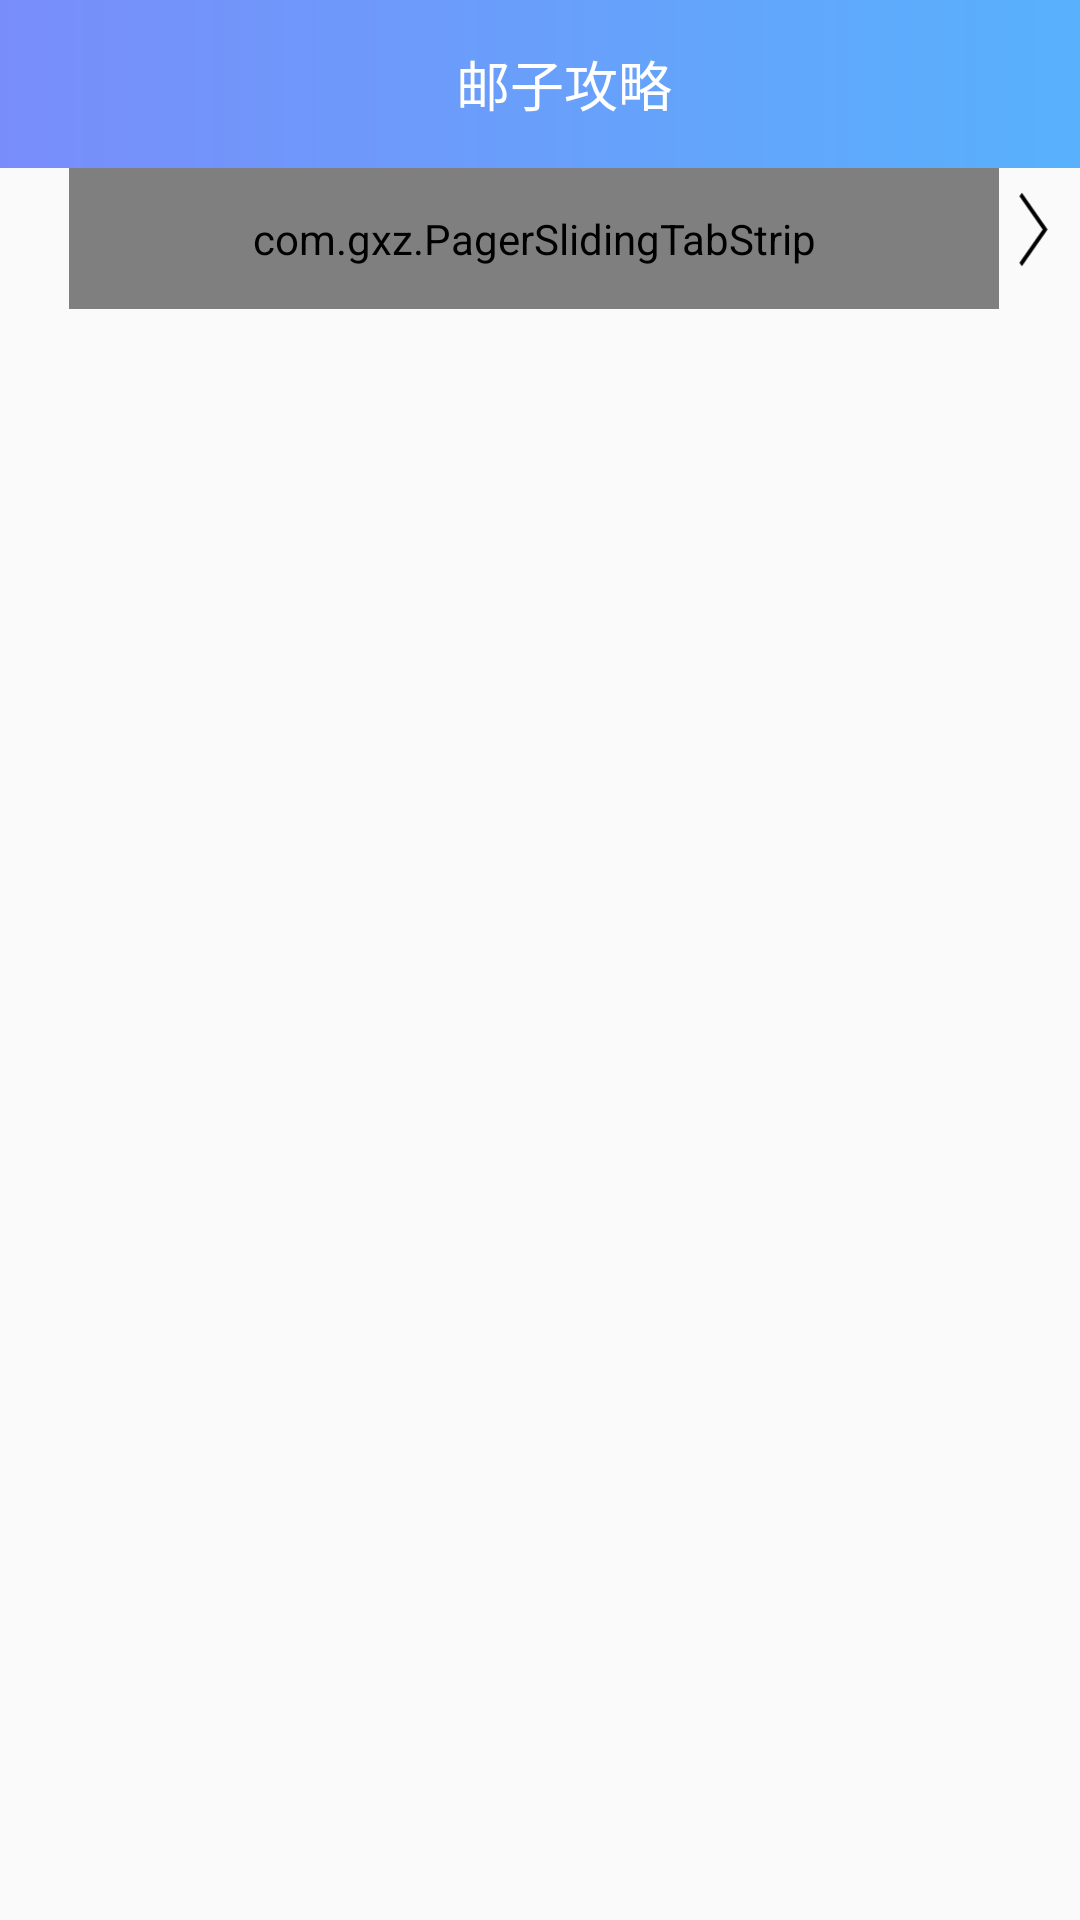

Named icons in this screenshot (1080x1920) and their bounding boxes, (x1, y1, x2, y2):
special go: (1019, 193, 1048, 266)
